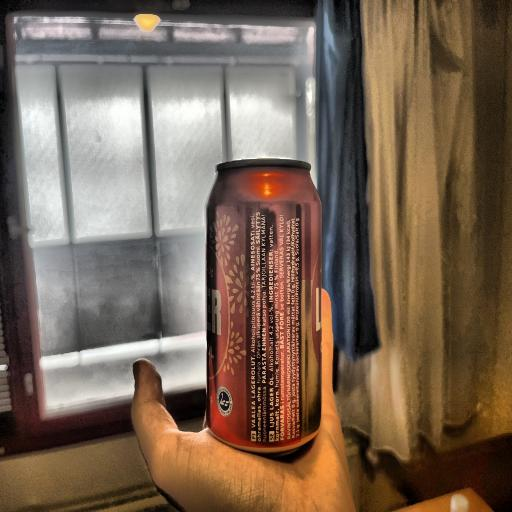coop_larger: (190, 156, 336, 447)
